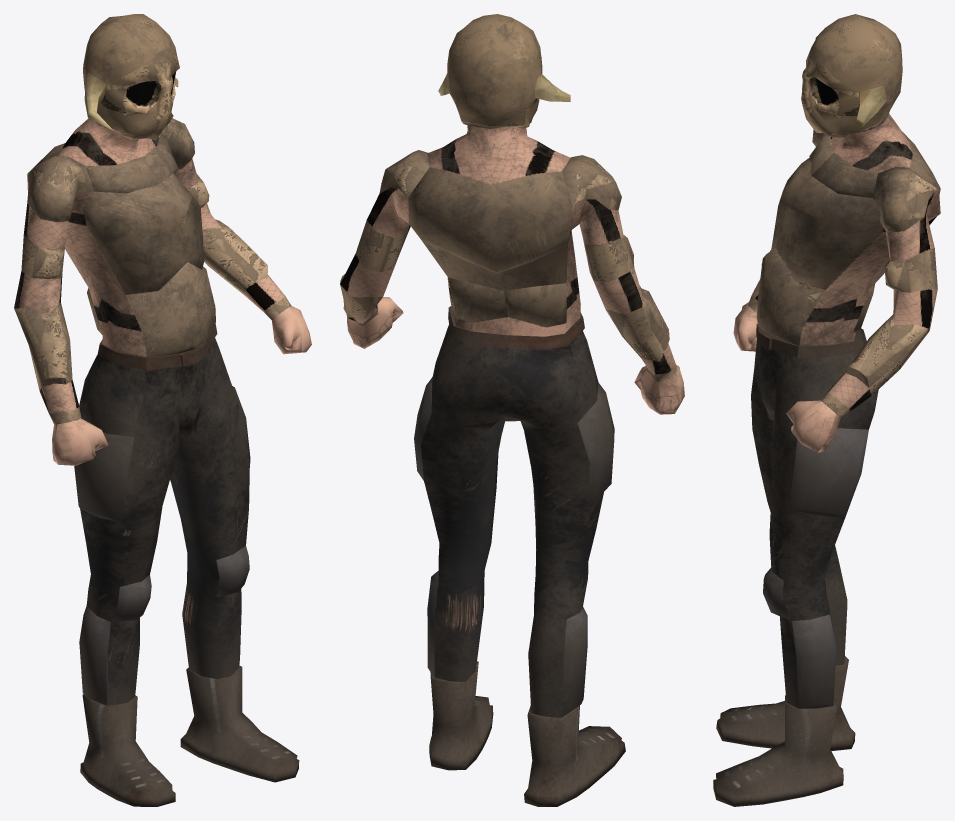
The model's file is Anim_recibirdanyo_npc1.0034.obj.
3 renders of one model, left to right at view 1: azimuth 30°, elevation 25°; view 2: azimuth 150°, elevation 25°; view 3: azimuth 270°, elevation 25°, orthographic. The views are drawn at different scales.
Parts seen in each view (by area): view 1: NPC2; view 2: NPC2; view 3: NPC2.
Boxes of the visible parts, bbox=[...] form: NPC2: bbox=[14, 14, 311, 806]; NPC2: bbox=[340, 14, 684, 806]; NPC2: bbox=[713, 14, 940, 806].
Size of the model in its own units: 3.88 by 9.57 by 2.66.
